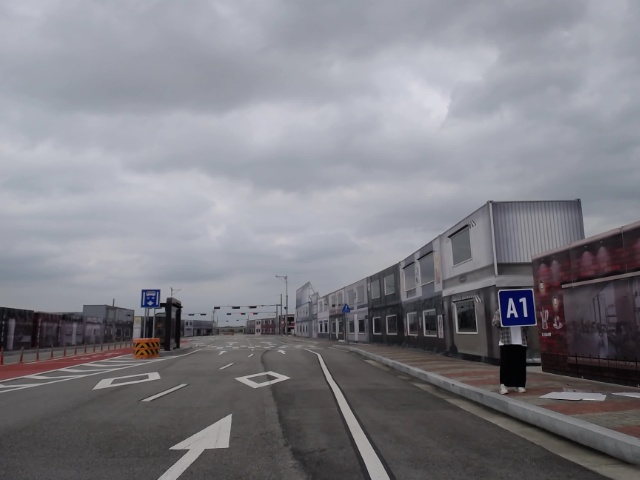delivery_a1: (499, 289, 537, 327)
